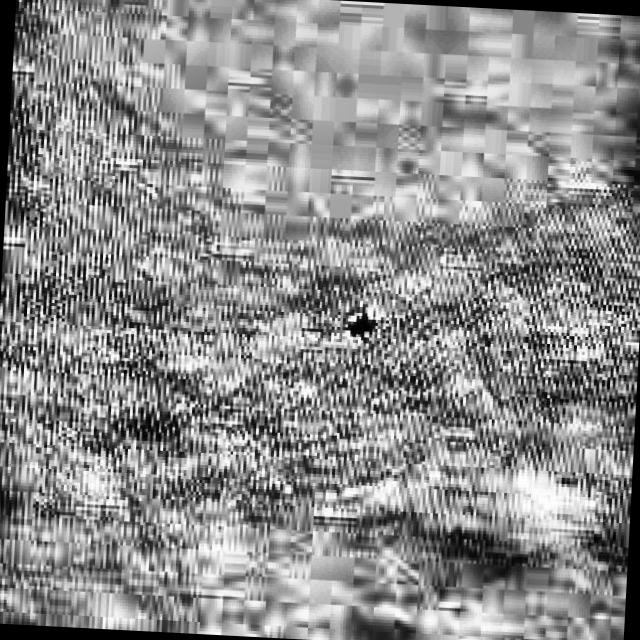cut: (331, 296, 390, 362)
